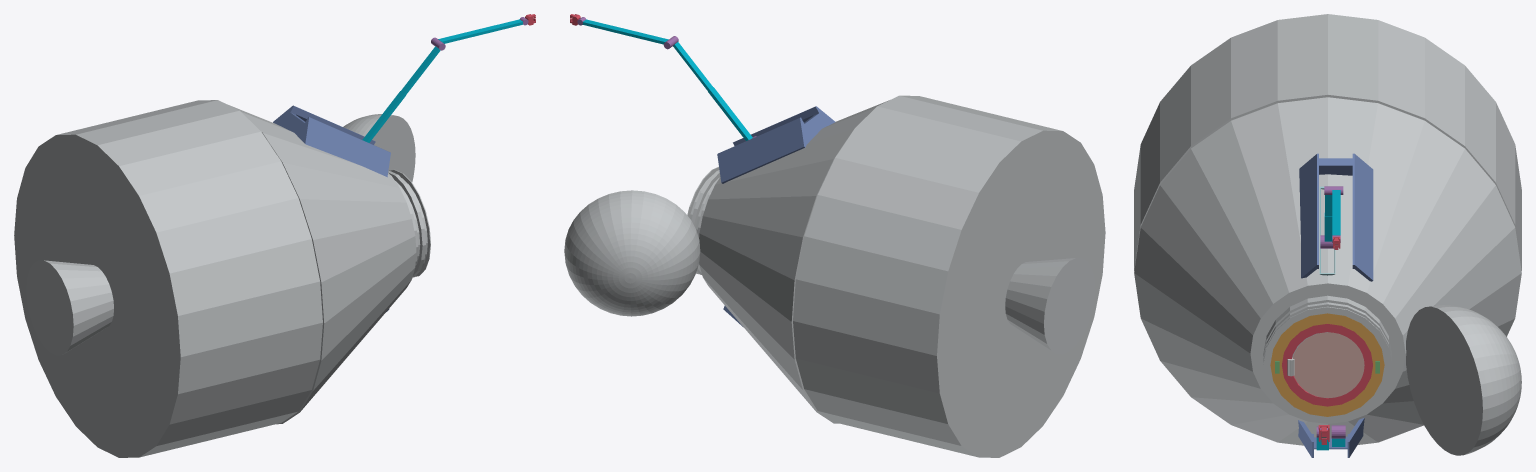
The model's file is active-space2 .glb.
3 renders of one model, left to right at view 1: azimuth 30°, elevation 25°; view 2: azimuth 150°, elevation 25°; view 3: azimuth 270°, elevation 25°, orthographic. The views are drawn at different scales.
Parts seen in each view (by area): view 1: Mesh_Mesh_head_geo.001_lambert2SG.001; view 2: Mesh_Mesh_head_geo.001_lambert2SG.001; view 3: Mesh_Mesh_head_geo.001_lambert2SG.001.
Part boxes in pixels (<box>): Mesh_Mesh_head_geo.001_lambert2SG.001: <box>14,14,535,457</box>; Mesh_Mesh_head_geo.001_lambert2SG.001: <box>564,14,1105,457</box>; Mesh_Mesh_head_geo.001_lambert2SG.001: <box>1134,14,1521,457</box>.
Bounding box in the file's own units: 173 × 109 × 102.
